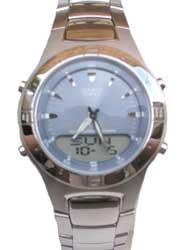watch: (13, 7, 168, 222)
